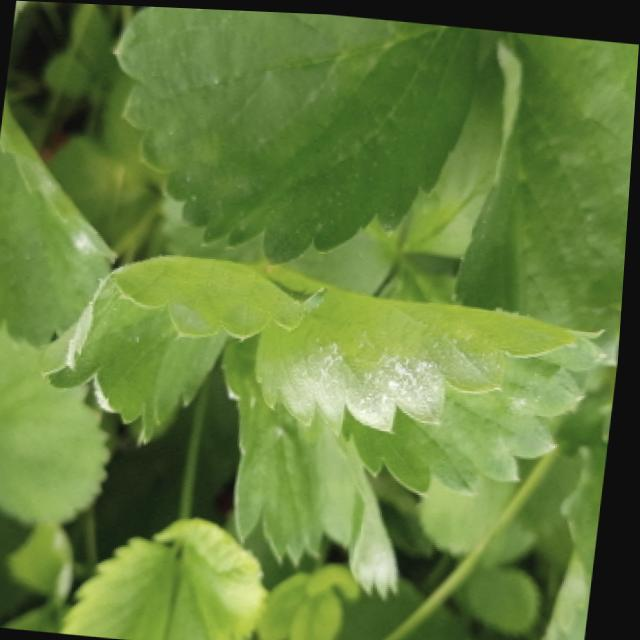Powdery Mildew Leaf: (260, 285, 616, 495), (49, 254, 333, 447), (225, 331, 409, 599), (0, 90, 122, 352), (545, 432, 614, 640)
